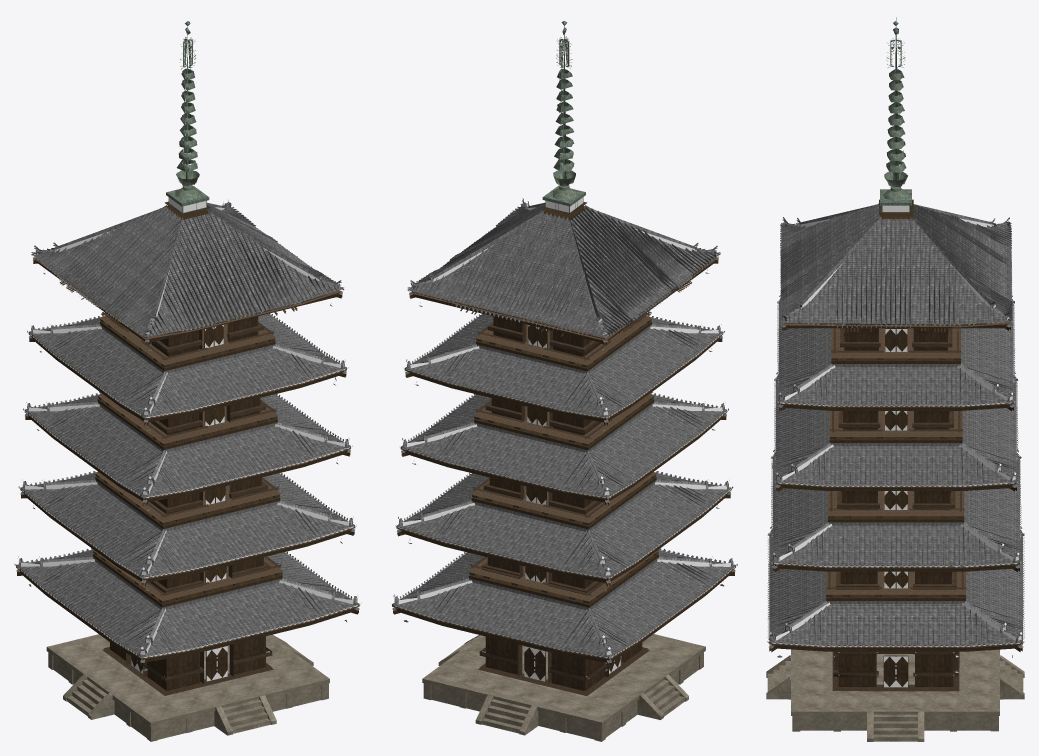
Rendered from Pagoda_Goju_55m.gltf.
3 views of the same model, side by side, from view 1: azimuth 30°, elevation 25°; view 2: azimuth 150°, elevation 25°; view 3: azimuth 270°, elevation 25° (orthographic).
Parts seen in each view (by area): view 1: Roof5_LOD0, Roof1_LOD0.006, Roof2_LOD0.006, Roof3_LOD0.003, Roof4_LOD0, Base_LOD0.006, Wall1_LOD0.006, Sorin_LOD0.006, Wall5_LOD0, Wall4_LOD0, Wall3_LOD0.003, Wall2_LOD0.006; view 2: Roof5_LOD0, Roof1_LOD0.006, Roof2_LOD0.006, Roof3_LOD0.003, Roof4_LOD0, Base_LOD0.006, Wall1_LOD0.006, Sorin_LOD0.006, Wall5_LOD0, Wall4_LOD0, Wall3_LOD0.003, Wall2_LOD0.006; view 3: Roof5_LOD0, Roof1_LOD0.006, Roof2_LOD0.006, Roof3_LOD0.003, Roof4_LOD0, Base_LOD0.006, Wall1_LOD0.006, Sorin_LOD0.006, Wall5_LOD0, Wall3_LOD0.003, Wall4_LOD0, Wall2_LOD0.006 (+1 smaller).
Part boxes in pixels (x1,y1,x2,y2): Roof5_LOD0: (31, 200, 344, 343); Roof1_LOD0.006: (14, 548, 360, 662); Roof2_LOD0.006: (18, 471, 356, 583); Roof3_LOD0.003: (23, 391, 352, 502); Roof4_LOD0: (27, 312, 348, 422); Base_LOD0.006: (46, 634, 329, 741); Wall1_LOD0.006: (17, 572, 358, 695); Sorin_LOD0.006: (166, 21, 209, 213); Wall5_LOD0: (33, 260, 342, 356); Wall4_LOD0: (29, 338, 346, 434); Wall3_LOD0.003: (25, 416, 350, 514); Wall2_LOD0.006: (21, 494, 354, 594); Roof5_LOD0: (407, 198, 720, 343); Roof1_LOD0.006: (390, 548, 737, 663); Roof2_LOD0.006: (395, 471, 733, 583); Roof3_LOD0.003: (399, 392, 728, 502); Roof4_LOD0: (403, 312, 724, 422); Base_LOD0.006: (422, 634, 705, 741); Wall1_LOD0.006: (393, 572, 734, 696); Sorin_LOD0.006: (542, 21, 585, 213); Wall5_LOD0: (409, 260, 718, 356); Wall4_LOD0: (405, 338, 722, 435); Wall3_LOD0.003: (401, 416, 726, 514); Wall2_LOD0.006: (397, 494, 730, 594); Roof5_LOD0: (780, 199, 1012, 332); Roof1_LOD0.006: (767, 527, 1024, 651); Roof2_LOD0.006: (770, 449, 1021, 571); Roof3_LOD0.003: (774, 372, 1018, 490); Roof4_LOD0: (777, 295, 1015, 410); Base_LOD0.006: (766, 649, 1024, 741); Wall1_LOD0.006: (769, 647, 1022, 691); Sorin_LOD0.006: (880, 17, 911, 212); Wall5_LOD0: (782, 326, 1010, 351); Wall3_LOD0.003: (776, 487, 1016, 509); Wall4_LOD0: (779, 407, 1013, 430); Wall2_LOD0.006: (772, 465, 1019, 589).
Bounding box in the file's own units: 20.09 × 57.82 × 20.1.
Materials: 11 (10 with a texture image).
